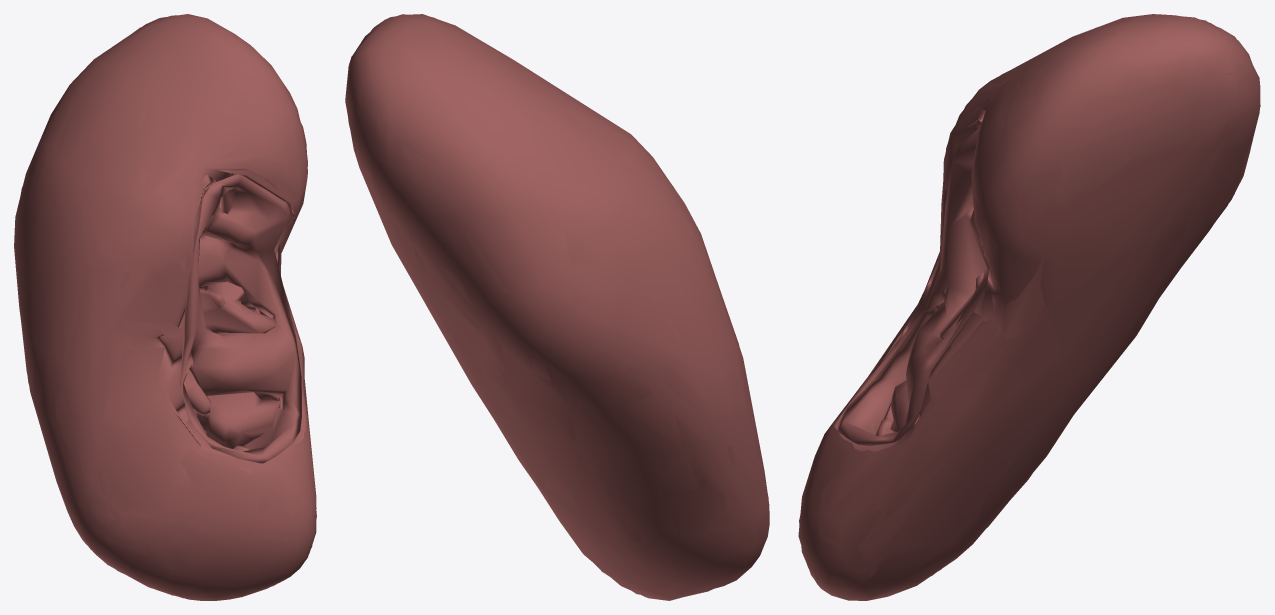
File: kidney_r.glb
3 views of the same model, side by side, from view 1: azimuth 30°, elevation 25°; view 2: azimuth 150°, elevation 25°; view 3: azimuth 270°, elevation 25° (orthographic). The views are drawn at different scales.
Visible parts, largest first — view 1: VH_M_kidney_capsule_R; view 2: VH_M_kidney_capsule_R; view 3: VH_M_kidney_capsule_R.
Part boxes in pixels (x1,y1,x2,y2): VH_M_kidney_capsule_R: (14, 14, 316, 600); VH_M_kidney_capsule_R: (345, 14, 769, 600); VH_M_kidney_capsule_R: (798, 14, 1260, 600).
Bounding box in the file's own units: 0.0653 × 0.1125 × 0.0761.
